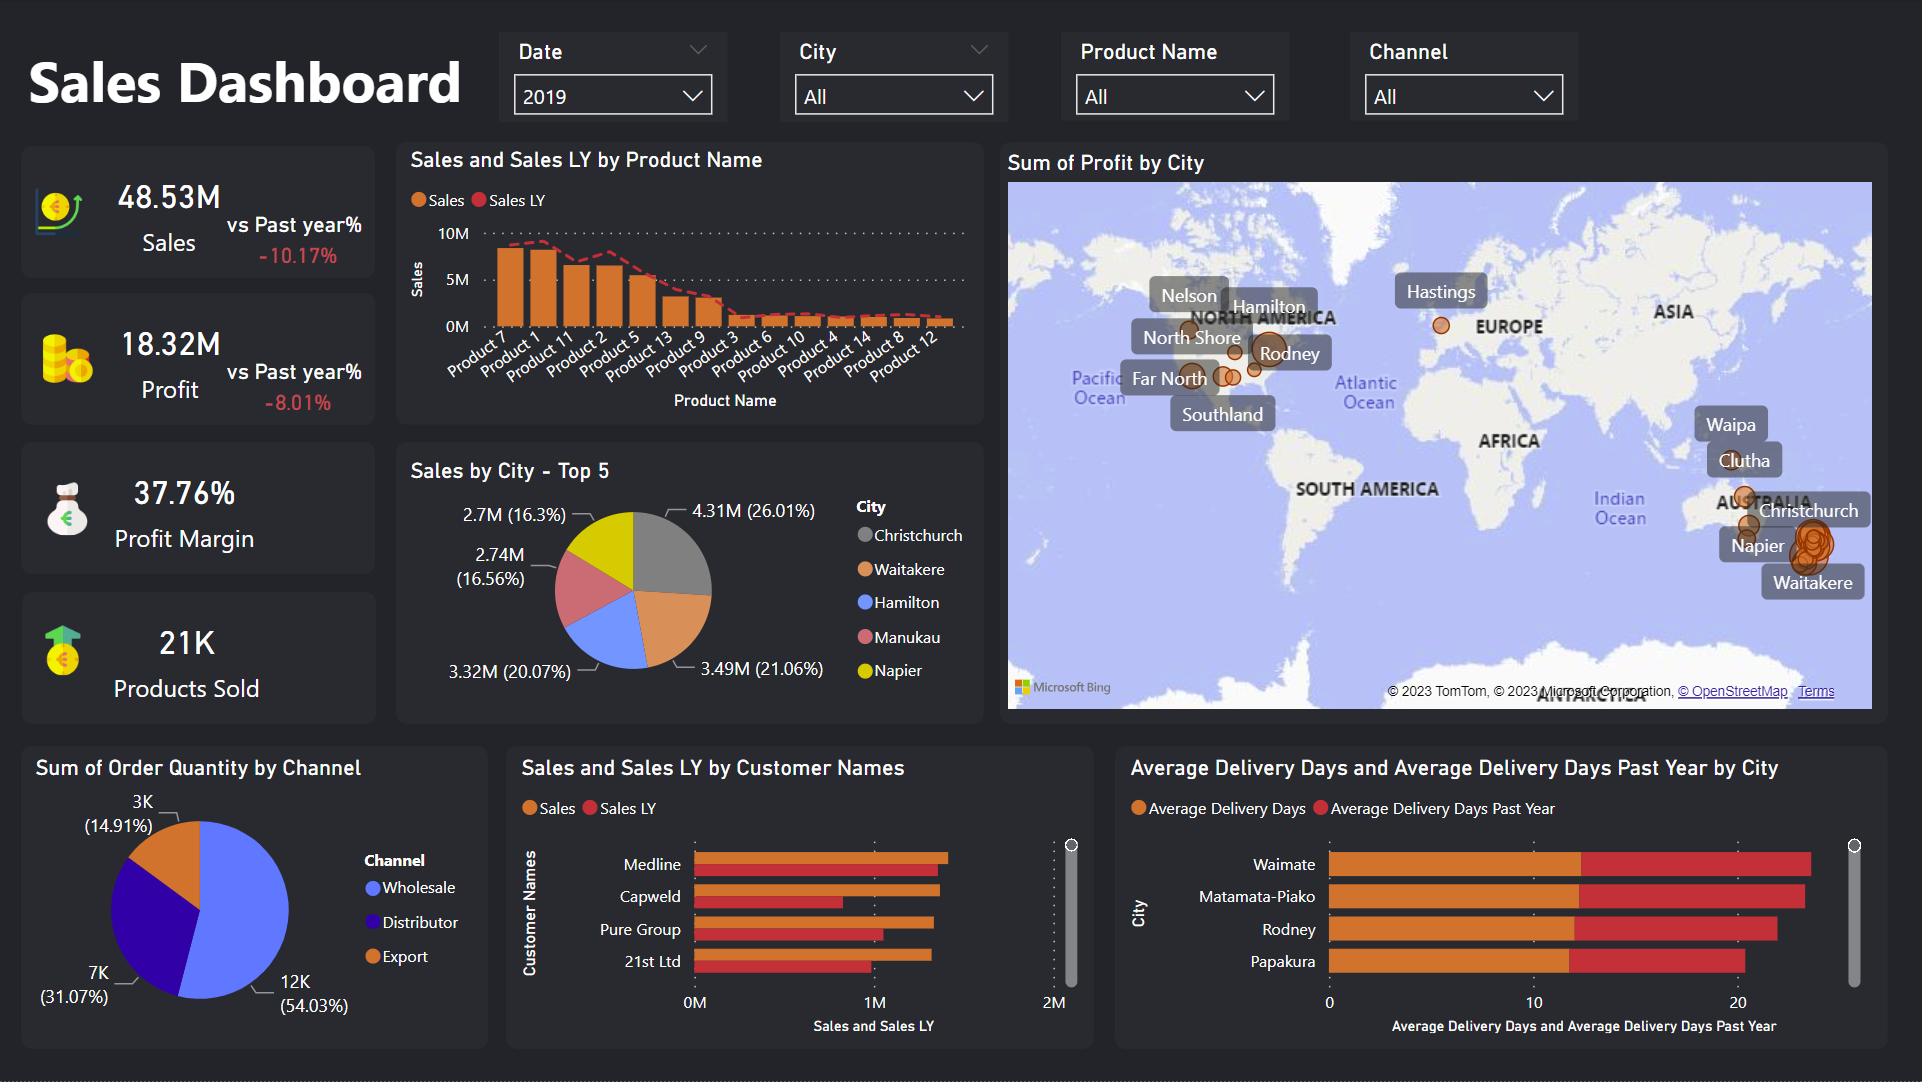

The page's visual inventory and layout, read from the dashboard file:
{"tool":"powerbi","page":{"name":"Duplicate of Page 1","canvas":[1280,720],"ordinal":0},"visuals":[{"type":"slicer","fields":{"Values":["DateTable.Year","DateTable.Month Short Name Plus Year"]},"box":[332.5,22,151.6,59.9],"z":0},{"type":"textbox","box":[14.7,23.2,310.5,74.6],"z":1000},{"type":"slicer","fields":{"Values":["Regions_Table.City"]},"box":[519.5,22,151.6,59.9],"z":2000},{"type":"slicer","fields":{"Values":["Products_Data.Product Name"]},"box":[706.6,22,151.6,58.7],"z":3000},{"type":"slicer","fields":{"Values":["Sales_Data.Channel"]},"box":[898.5,22,151.6,58.7],"z":4000},{"type":"group","id":"g1","title":"Group 1","box":[14.7,97.8,235.9,88],"z":5000},{"type":"shape","box":[264.1,95.1,391.2,188.3],"z":6000},{"type":"shape","box":[14.8,195.6,235.7,87.8],"z":6000,"group":"g2"},{"type":"lineClusteredColumnComboChart","fields":{"Category":["Products_Data.Product Name"],"Y":["Mesure Table.Sales"],"Y2":["Mesure Table.Sales PY"]},"box":[268.8,98.5,379.9,179],"z":7000},{"type":"shape","box":[14.8,294.6,235.7,87.8],"z":7000,"group":"g3"},{"type":"shape","box":[15,394.8,235.7,87.8],"z":8000,"group":"g4"},{"type":"shape","box":[337.3,497,391.2,201.6],"z":8000},{"type":"card","fields":{"Values":["Mesure Table.Profit"]},"box":[64.9,201.2,97.1,76.7],"z":9000,"group":"g2"},{"type":"shape","box":[264.1,294.7,391.2,187.6],"z":9000},{"type":"card","fields":{"Values":["Mesure Table.Profit Margin"]},"box":[64.9,300.2,116.3,76.7],"z":10000,"group":"g3"},{"type":"clusteredBarChart","fields":{"Category":["Customer_Data.Customer Names"],"Y":["Mesure Table.Sales","Mesure Table.Sales PY"]},"box":[342.6,503,379.9,190.3],"z":10000},{"type":"group","id":"g2","title":"Group 3","box":[1.2,195.6,249.4,88],"z":11000},{"type":"card","fields":{"Values":["Mesure Table.Products Sold"]},"box":[65.1,400.4,119.4,76.7],"z":11000,"group":"g4"},{"type":"card","title":"vs  Past year%","fields":{"Values":["Mesure Table.Profit vs LY %"]},"box":[146.6,239.5,103.9,42.1],"z":12000,"group":"g2"},{"type":"group","id":"g3","title":"Group 4","box":[0,294.6,250.6,88],"z":12000},{"type":"image","box":[1.2,217.9,88.5,42.7],"z":13000,"group":"g2"},{"type":"group","id":"g4","title":"Group 5","box":[9.8,394.8,240.8,88],"z":13000},{"type":"image","box":[0,316.2,89.7,44.5],"z":14000,"group":"g3"},{"type":"shape","box":[14.6,497,310.7,201.6],"z":14000},{"type":"image","box":[9.8,411.9,64.8,42.8],"z":15000,"group":"g4"},{"type":"pieChart","fields":{"Category":["Sales_Data.Channel"],"Y":["Sum(Sales_Data.Order Quantity)"]},"box":[19.3,503,300.7,190.3],"z":15000},{"type":"pieChart","title":"Sales by City - Top 5","fields":{"Category":["Regions_Table.City"],"Y":["Mesure Table.Sales"]},"box":[268.8,305.4,386.5,160.3],"z":16000},{"type":"shape","box":[665.9,95.1,590.8,387.2],"z":18000},{"type":"shape","box":[14.7,97.8,235.7,87.8],"z":18000,"group":"g5"},{"type":"map","fields":{"Size":["Sum(Sales_Data.Profit)"],"Category":["Regions_Table.City"]},"box":[665.9,100.5,585.4,376.5],"z":19000},{"type":"card","fields":{"Values":["Mesure Table.Sales"]},"box":[64.8,103.4,97.1,76.7],"z":19000,"group":"g5"},{"type":"image","box":[19,111.4,41.4,60.6],"z":20000,"group":"g5"},{"type":"shape","box":[742.5,497,514.3,201.6],"z":20000},{"type":"barChart","fields":{"Category":["Regions_Table.City"],"Y":["Mesure Table.Average Delivery Days","Mesure Table.Average Delivery Days Past Year"]},"box":[747.8,503,495.6,190.3],"z":20001},{"type":"card","title":"vs  Past year%","fields":{"Values":["Mesure Table.Sales vs PY %"]},"box":[146.5,141.7,103.9,42.1],"z":21000,"group":"g5"},{"type":"group","id":"g5","title":"Group 2","box":[14.7,97.8,235.9,88],"z":22001,"group":"g1"}]}

Visuals, with their boxes in screenshot pixels (x1, y1, x2, y2), scaled from the page's 1280x720 canvas onto the 1922x1082 screenshot:
slicer - DateTable.Year x DateTable.Month Short Name Plus Year: box(499, 33, 727, 123)
textbox: box(22, 35, 488, 147)
slicer - Regions_Table.City: box(780, 33, 1008, 123)
slicer - Products_Data.Product Name: box(1061, 33, 1289, 121)
slicer - Sales_Data.Channel: box(1349, 33, 1577, 121)
"Group 1" group: box(22, 147, 376, 279)
shape: box(397, 143, 984, 426)
shape: box(22, 294, 376, 426)
lineClusteredColumnComboChart - Products_Data.Product Name x Mesure Table.Sales: box(404, 148, 974, 417)
shape: box(22, 443, 376, 575)
shape: box(23, 593, 376, 725)
shape: box(506, 747, 1094, 1050)
card - Mesure Table.Profit: box(97, 302, 243, 418)
shape: box(397, 443, 984, 725)
card - Mesure Table.Profit Margin: box(97, 451, 272, 566)
clusteredBarChart - Customer_Data.Customer Names x Mesure Table.Sales: box(514, 756, 1085, 1042)
"Group 3" group: box(2, 294, 376, 426)
card - Mesure Table.Products Sold: box(98, 602, 277, 717)
"vs  Past year%" card: box(220, 360, 376, 423)
"Group 4" group: box(0, 443, 376, 575)
image: box(2, 327, 135, 392)
"Group 5" group: box(15, 593, 376, 726)
image: box(0, 475, 135, 542)
shape: box(22, 747, 488, 1050)
image: box(15, 619, 112, 683)
pieChart - Sales_Data.Channel x Sum(Sales_Data.Order Quantity): box(29, 756, 480, 1042)
"Sales by City - Top 5" pieChart: box(404, 459, 984, 700)
shape: box(1000, 143, 1887, 725)
shape: box(22, 147, 376, 279)
map - Sum(Sales_Data.Profit) x Regions_Table.City: box(1000, 151, 1879, 717)
card - Mesure Table.Sales: box(97, 155, 243, 271)
image: box(29, 167, 91, 258)
shape: box(1115, 747, 1887, 1050)
barChart - Regions_Table.City x Mesure Table.Average Delivery Days: box(1123, 756, 1867, 1042)
"vs  Past year%" card: box(220, 213, 376, 276)
"Group 2" group: box(22, 147, 376, 279)
